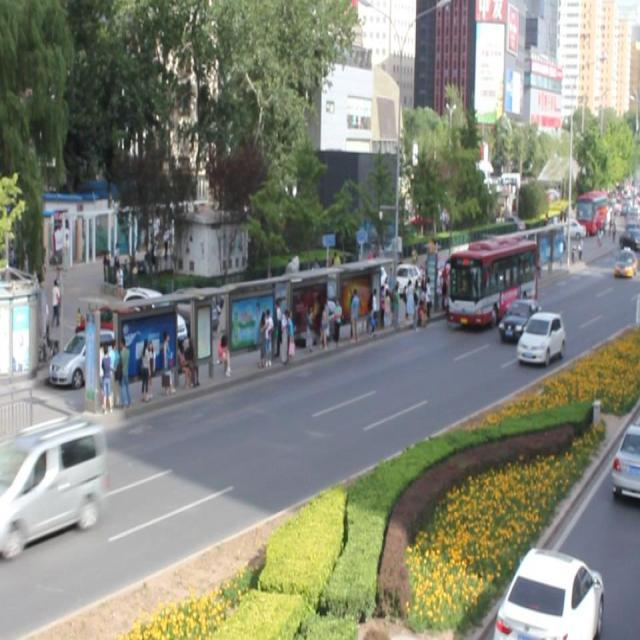car: (516, 310, 565, 361), (498, 297, 543, 341)
truck: (1, 416, 104, 540)
van: (448, 233, 537, 325)
